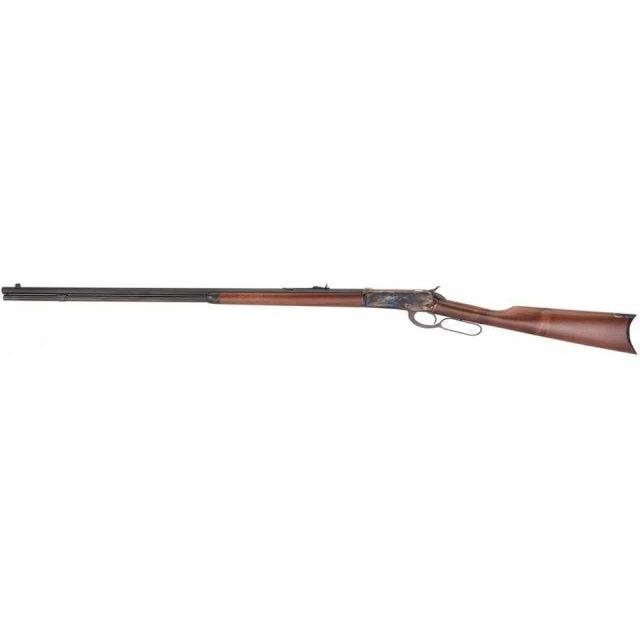Rifle: (0, 249, 640, 384)
